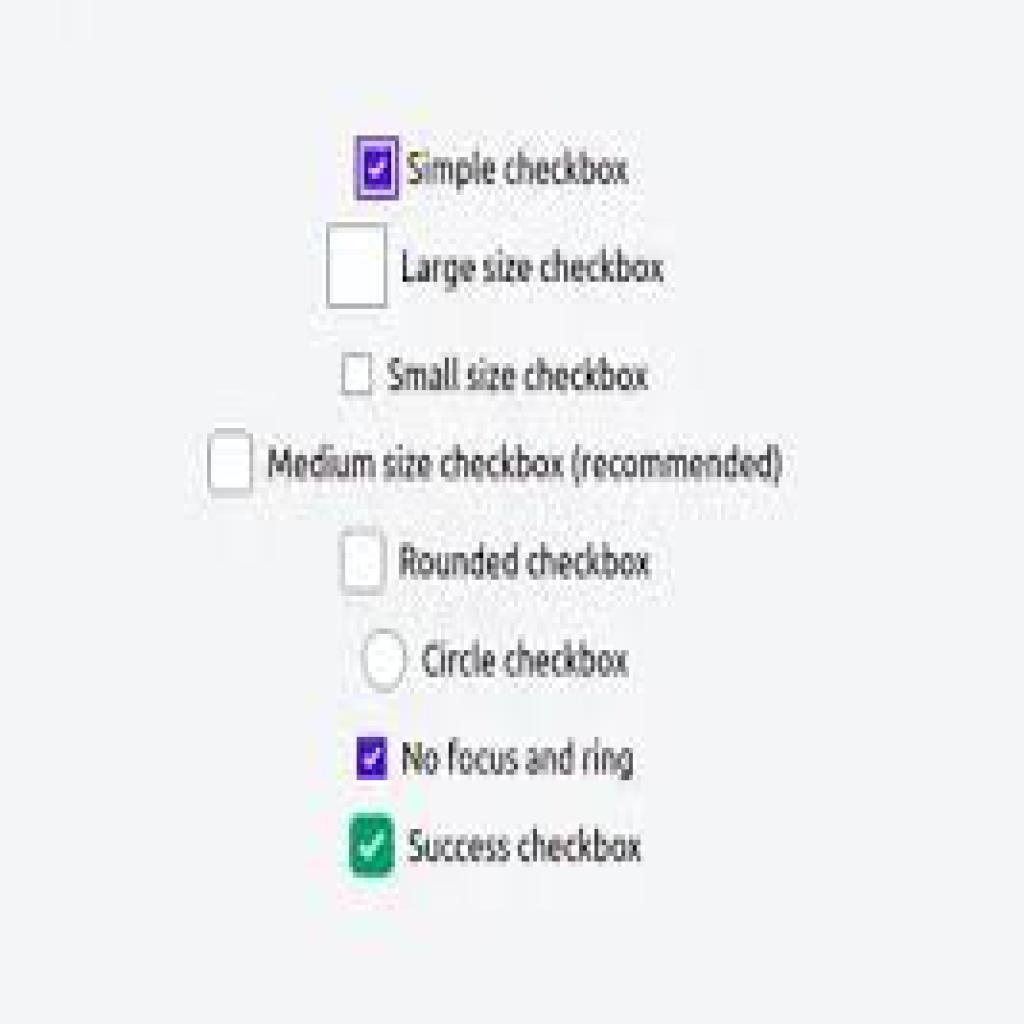checkbox: (323, 221, 393, 313), (340, 522, 391, 601), (351, 133, 404, 207), (206, 428, 259, 502), (346, 812, 399, 882), (339, 350, 380, 400), (355, 735, 392, 785)
radio: (359, 623, 413, 700)
